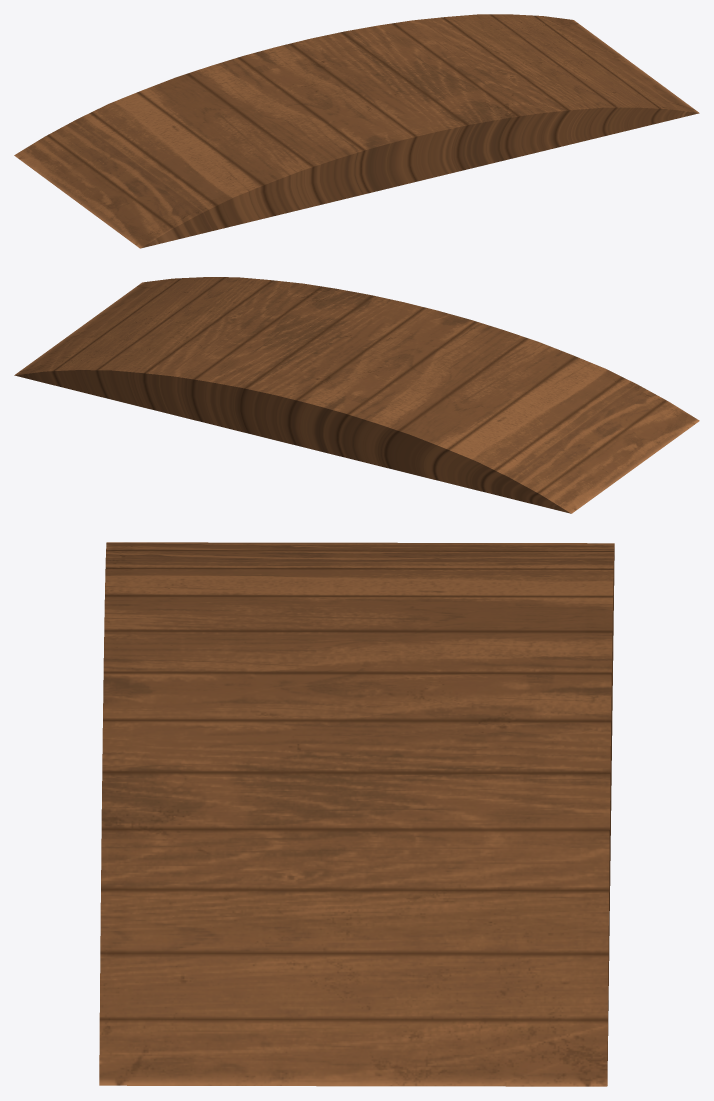
Rendered from big_bridge_col 1.fbx.
The picture shows the model from 3 angles, top to bottom: view 1: azimuth 30°, elevation 25°; view 2: azimuth 150°, elevation 25°; view 3: azimuth 270°, elevation 25°; orthographic projection. The views are drawn at different scales.
Visible parts, largest first — view 1: Big_Bridge.001; view 2: Big_Bridge.001; view 3: Big_Bridge.001.
Part boxes in pixels (x1=…): Big_Bridge.001: x1=14, y1=14, x2=699, y2=248; Big_Bridge.001: x1=14, y1=277, x2=699, y2=513; Big_Bridge.001: x1=99, y1=542, x2=614, y2=1086.
Size of the model in its own units: 1036 by 80.31 by 414.
